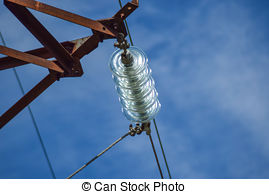isolator: (108, 45, 162, 124)
